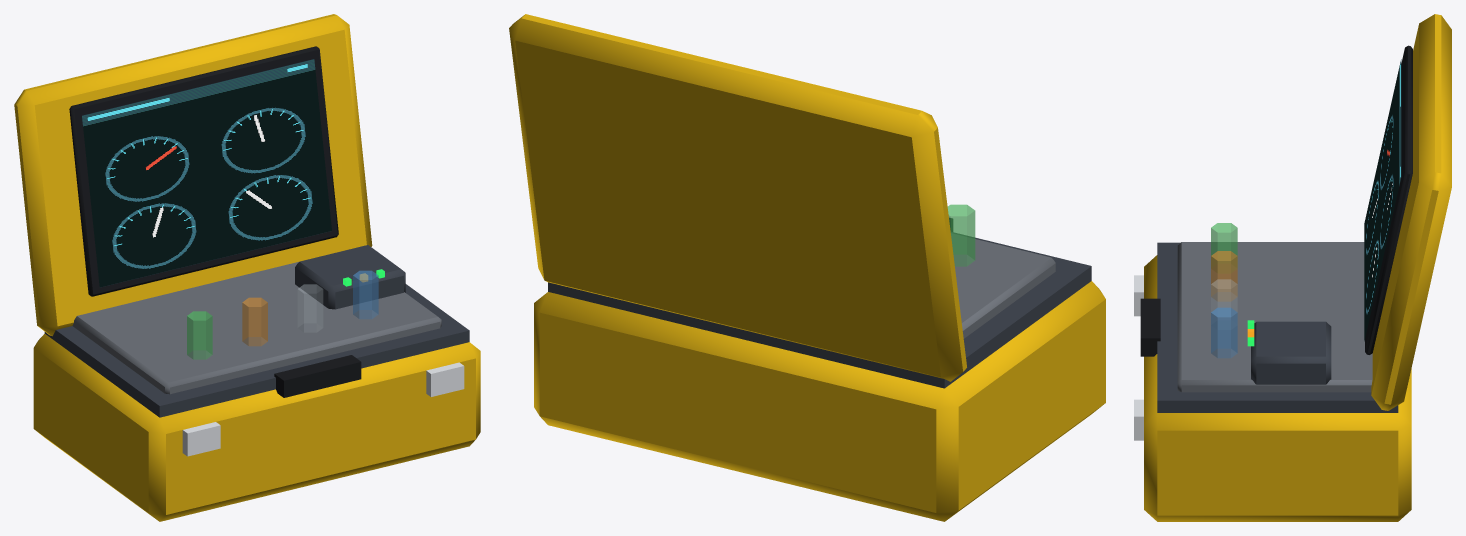
The model's file is sciinstrument_portable_field_lab.glb.
3 views of the same model, side by side, from view 1: azimuth 30°, elevation 25°; view 2: azimuth 150°, elevation 25°; view 3: azimuth 270°, elevation 25° (orthographic). The views are drawn at different scales.
Parts seen in each view (by area): view 1: sciinstrument_portable_field_lab; view 2: sciinstrument_portable_field_lab; view 3: sciinstrument_portable_field_lab.
Boxes of the visible parts, x1,y1,x2,y2 form: sciinstrument_portable_field_lab: [14, 14, 480, 521]; sciinstrument_portable_field_lab: [509, 14, 1105, 521]; sciinstrument_portable_field_lab: [1134, 14, 1451, 521].
Bounding box in the file's own units: 0.6 × 0.577 × 0.4753.
Materials: 12 (1 with a texture image).
